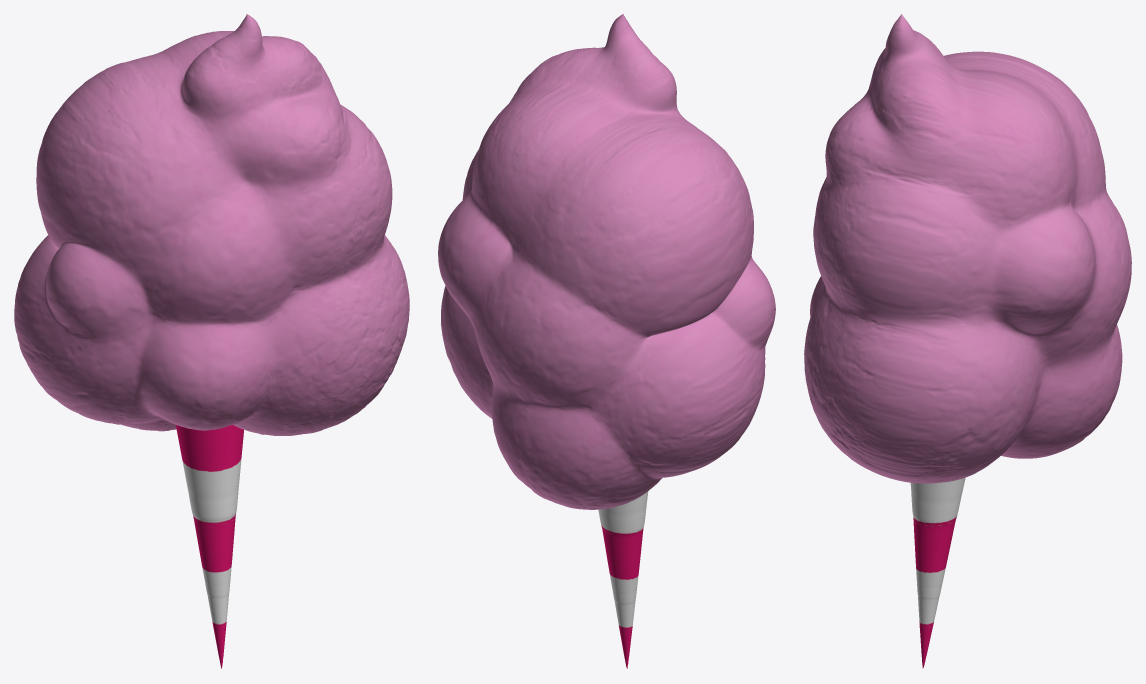
The model's file is cottoncandy-CsV13UEF.glb.
3 views of the same model, side by side, from view 1: azimuth 30°, elevation 25°; view 2: azimuth 150°, elevation 25°; view 3: azimuth 270°, elevation 25° (orthographic). The views are drawn at different scales.
Visible parts, largest first — view 1: cotton candy_2, cotton candy_1; view 2: cotton candy_2, cotton candy_1; view 3: cotton candy_2, cotton candy_1.
Boxes of the visible parts, x1,y1,x2,y2 form: cotton candy_2: (14,14,409,435); cotton candy_1: (175,425,243,668); cotton candy_2: (438,14,775,509); cotton candy_1: (598,491,648,668); cotton candy_2: (804,14,1131,483); cotton candy_1: (910,477,965,668).
Size of the model in its own units: 0.9715 by 1.85 by 0.8278.
